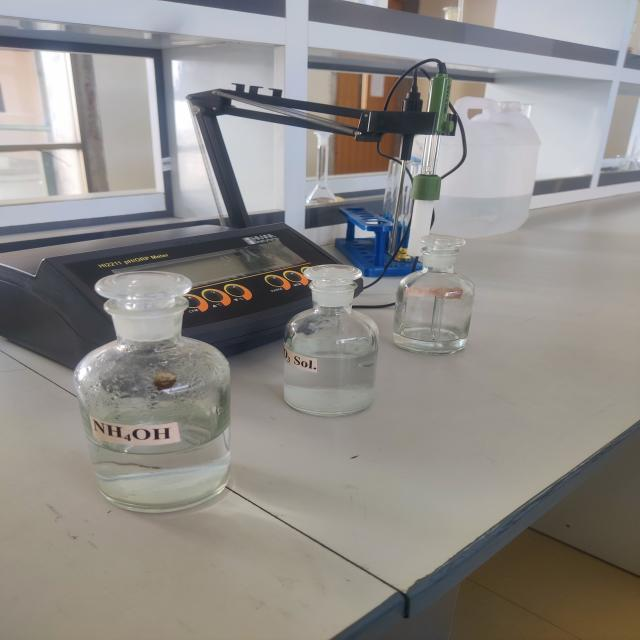Reagent_Bottle: (45, 248, 263, 528), (273, 242, 386, 433), (374, 215, 502, 371)
